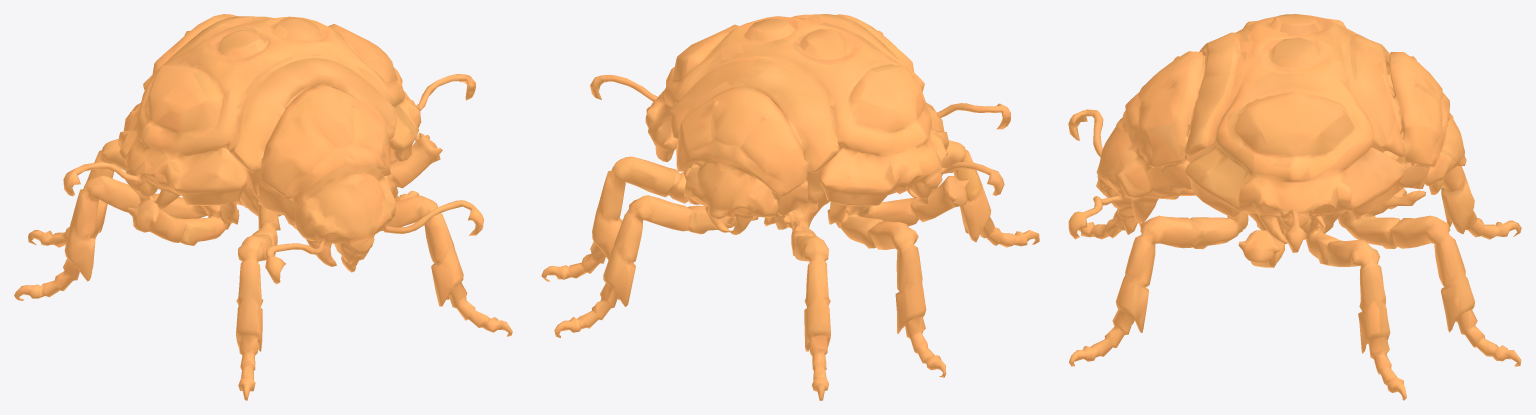
File: sand_burrower.glb
The picture shows the model from 3 angles, left to right: view 1: azimuth 30°, elevation 25°; view 2: azimuth 150°, elevation 25°; view 3: azimuth 270°, elevation 25°; orthographic projection. The views are drawn at different scales.
Parts seen in each view (by area): view 1: Mesh1.0; view 2: Mesh1.0; view 3: Mesh1.0.
Part boxes in pixels (box(x1,y1,x2,y2)): Mesh1.0: box(14, 14, 512, 400); Mesh1.0: box(541, 14, 1039, 400); Mesh1.0: box(1068, 14, 1521, 400).
Bounding box in the file's own units: 1.91 × 1.16 × 1.77.
Materials: 1 (1 with a texture image).
